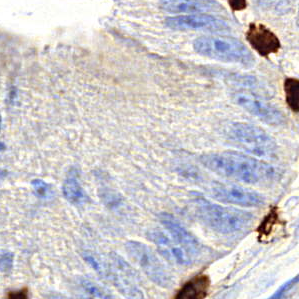Lymphocyte: (244, 20, 282, 59)
